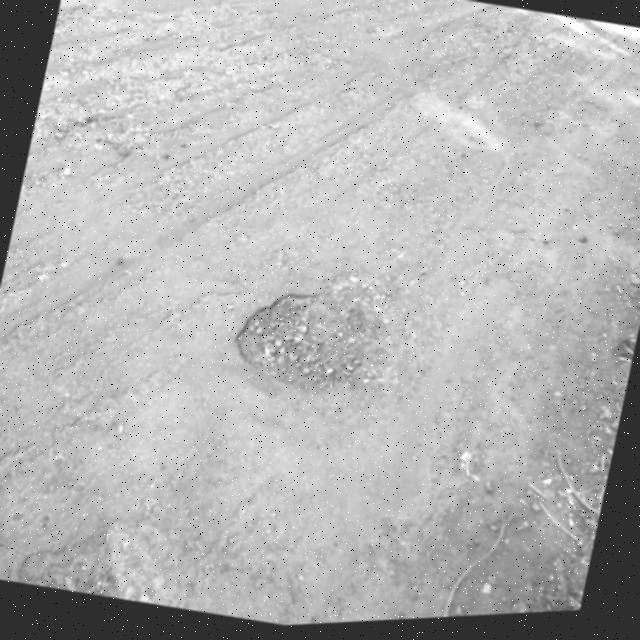Pothole: (220, 272, 394, 410), (58, 102, 130, 160)
